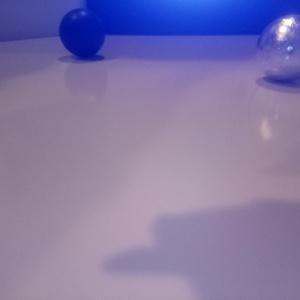alive_ball: (257, 14, 300, 82)
dead_ball: (59, 9, 106, 56)
